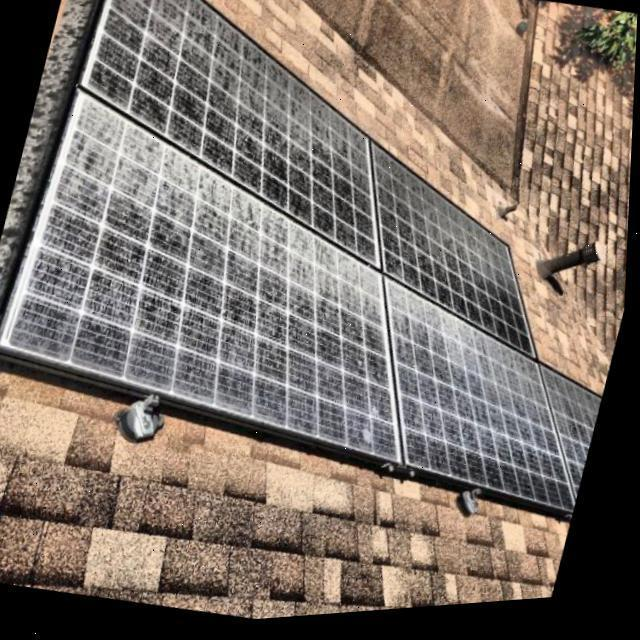Anomaly Solar Panel: (3, 0, 606, 520)
Surface Contaminant: (12, 100, 605, 519), (90, 0, 537, 365)
